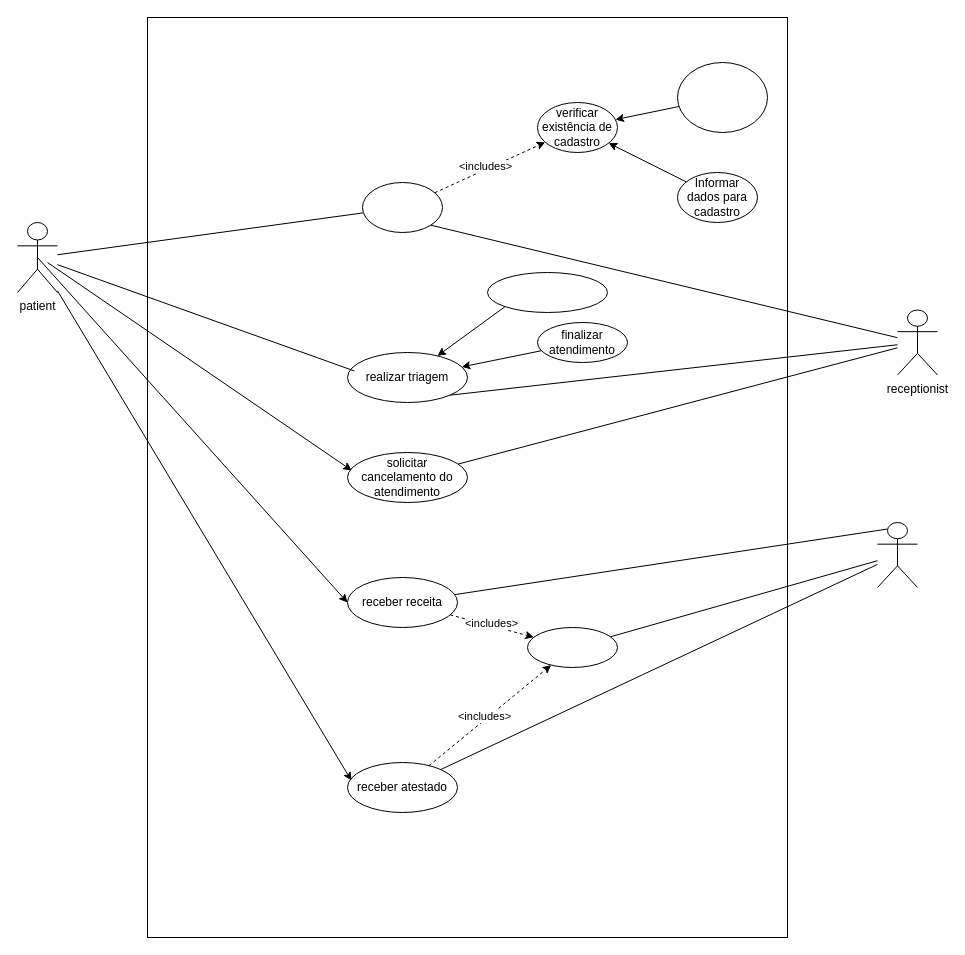
The diagram is 965 pixels wide and 955 high, and some of its shapes have lost their labels. Here are the shapes that lost their labels. From the top down, the centre of each, then its label:
(722,97): Informar dados para pesquisa de cadastro
(402,207): solicitar atendimento
(547,292): Receber encaminhamento
(897,555): médico
(572,647): autenticar documento
